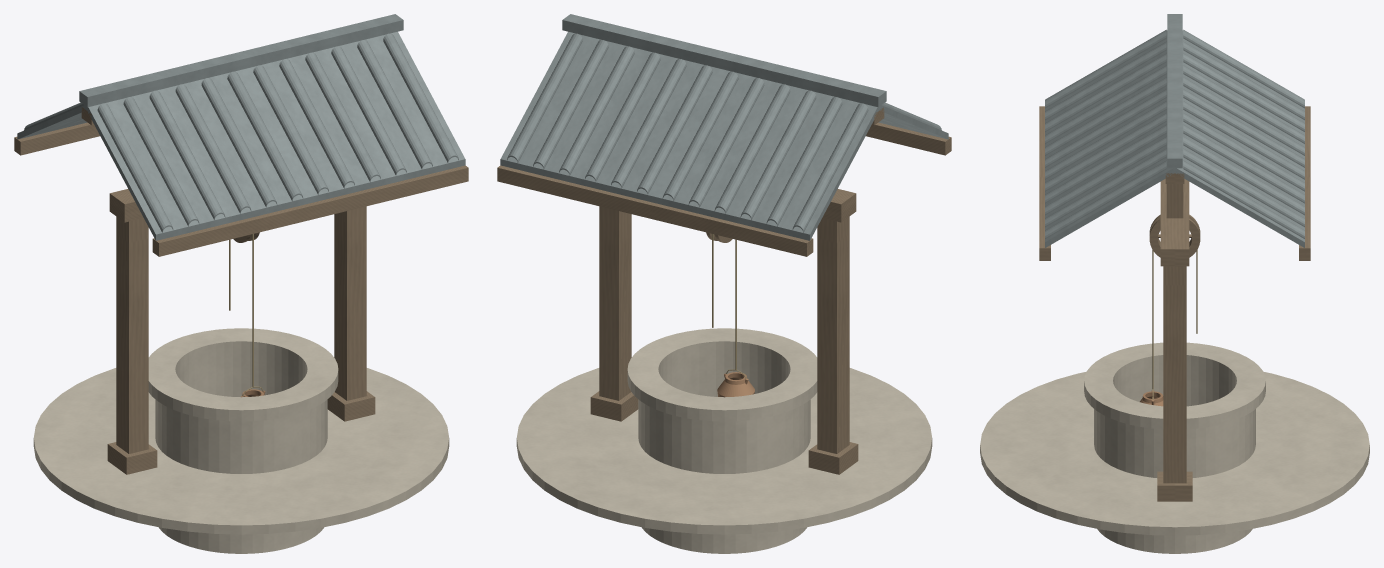
The model's file is well-B-LOD0.glb.
3 renders of one model, left to right at view 1: azimuth 30°, elevation 25°; view 2: azimuth 150°, elevation 25°; view 3: azimuth 270°, elevation 25°, orthographic. The views are drawn at different scales.
Visible parts, largest first — view 1: B_LOD0__demonstration_apron_opening, B_LOD0__roof_deck_0, B_LOD0__round_folded_rim, B_LOD0__main_post_-1, B_LOD0__main_post_1, B_LOD0__ridge_cap, B_LOD0__eave_tie, B_LOD0__short_liner, B_LOD0__eave_tie.001, B_LOD0__post_foot_-1, B_LOD0__post_foot_1, B_LOD0__roof_deck_1 (+37 smaller); view 2: B_LOD0__demonstration_apron_opening, B_LOD0__roof_deck_1, B_LOD0__round_folded_rim, B_LOD0__main_post_-1, B_LOD0__main_post_1, B_LOD0__ridge_cap, B_LOD0__eave_tie.001, B_LOD0__short_liner, B_LOD0__eave_tie, B_LOD0__post_foot_-1, B_LOD0__post_foot_1, B_LOD0__roof_deck_0 (+38 smaller); view 3: B_LOD0__demonstration_apron_opening, B_LOD0__round_folded_rim, B_LOD0__roof_deck_1, B_LOD0__roof_deck_0, B_LOD0__main_post_1, B_LOD0__ridge_cap, B_LOD0__short_liner, B_LOD0__cross_head, B_LOD0__eave_tie, B_LOD0__eave_tie.001, B_LOD0__post_foot_1, B_LOD0__wheel_grooved_ring (+1 smaller).
Part boxes in pixels (x1,y1,x2,y2): B_LOD0__demonstration_apron_opening: [33, 368, 449, 534]; B_LOD0__roof_deck_0: [86, 31, 465, 240]; B_LOD0__round_folded_rim: [148, 328, 338, 473]; B_LOD0__main_post_-1: [116, 216, 148, 453]; B_LOD0__main_post_1: [334, 206, 366, 400]; B_LOD0__ridge_cap: [79, 14, 403, 107]; B_LOD0__eave_tie: [152, 165, 468, 256]; B_LOD0__short_liner: [159, 527, 323, 553]; B_LOD0__eave_tie.001: [14, 122, 99, 155]; B_LOD0__post_foot_-1: [107, 442, 157, 474]; B_LOD0__post_foot_1: [327, 391, 375, 421]; B_LOD0__roof_deck_1: [17, 105, 87, 139]; B_LOD0__demonstration_apron_opening: [516, 368, 932, 534]; B_LOD0__roof_deck_1: [500, 31, 879, 240]; B_LOD0__round_folded_rim: [627, 328, 817, 473]; B_LOD0__main_post_-1: [817, 216, 849, 453]; B_LOD0__main_post_1: [599, 206, 631, 400]; B_LOD0__ridge_cap: [562, 14, 886, 107]; B_LOD0__eave_tie.001: [497, 165, 813, 256]; B_LOD0__short_liner: [642, 527, 806, 553]; B_LOD0__eave_tie: [866, 122, 951, 155]; B_LOD0__post_foot_-1: [808, 442, 858, 474]; B_LOD0__post_foot_1: [590, 391, 638, 421]; B_LOD0__roof_deck_0: [878, 105, 948, 139]; B_LOD0__demonstration_apron_opening: [980, 371, 1369, 535]; B_LOD0__round_folded_rim: [1084, 342, 1265, 477]; B_LOD0__roof_deck_1: [1175, 30, 1304, 247]; B_LOD0__roof_deck_0: [1045, 30, 1174, 247]; B_LOD0__main_post_1: [1163, 266, 1186, 483]; B_LOD0__ridge_cap: [1167, 14, 1182, 168]; B_LOD0__short_liner: [1097, 529, 1252, 553]; B_LOD0__cross_head: [1160, 179, 1189, 266]; B_LOD0__eave_tie: [1039, 106, 1050, 260]; B_LOD0__eave_tie.001: [1299, 106, 1310, 260]; B_LOD0__post_foot_1: [1157, 471, 1192, 501]; B_LOD0__wheel_grooved_ring: [1149, 214, 1200, 257].
Size of the model in its own units: 3.3 by 4.05 by 3.3.
Materials: 5 (3 with a texture image).
